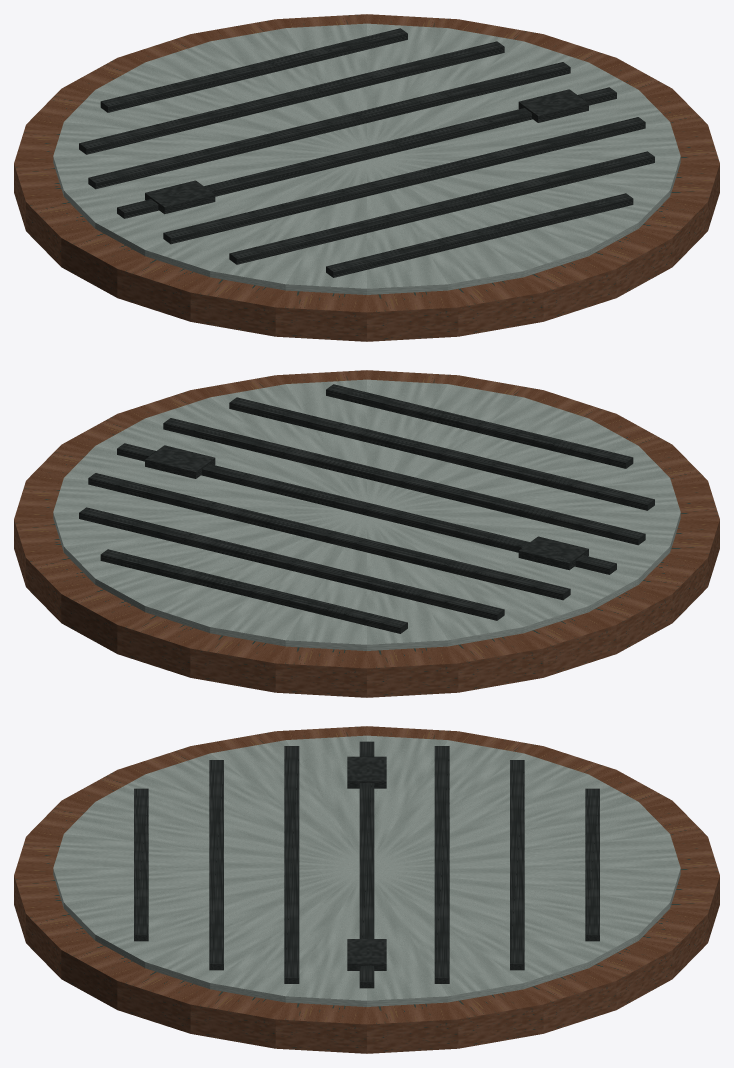
The model's file is Manhole.glb.
3 views of the same model, one above another, from view 1: azimuth 30°, elevation 25°; view 2: azimuth 150°, elevation 25°; view 3: azimuth 270°, elevation 25° (orthographic).
Parts seen in each view (by area): view 1: Manhole; view 2: Manhole; view 3: Manhole.
Part boxes in pixels (bbox=[...]): Manhole: bbox=[14, 14, 719, 341]; Manhole: bbox=[14, 370, 719, 697]; Manhole: bbox=[14, 726, 719, 1053].
Bounding box in the file's own units: 0.72 × 0.05 × 0.72.
3 materials, 3 textured.
